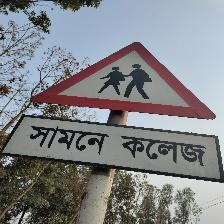College-in-front: (0, 12, 224, 209)
